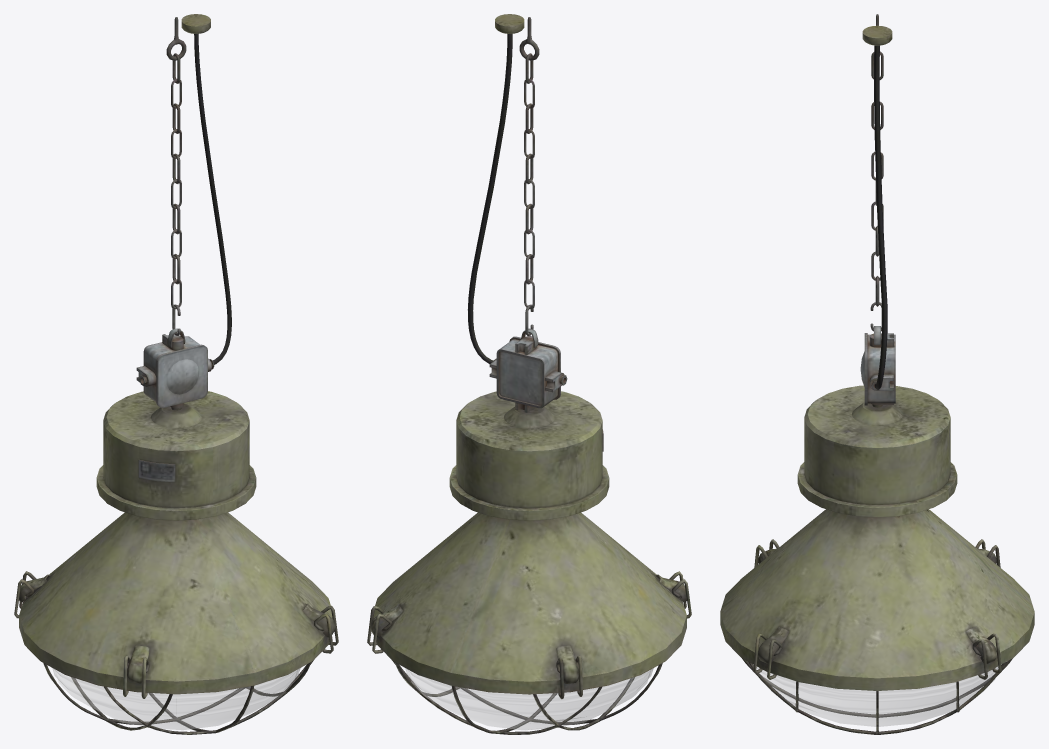
Rendered from hanging_industrial_lamp.glb.
3 views of the same model, side by side, from view 1: azimuth 30°, elevation 25°; view 2: azimuth 150°, elevation 25°; view 3: azimuth 270°, elevation 25° (orthographic).
Bounding box in the file's own units: 0.5496 × 1.36 × 0.5496.
2 materials, 1 textured.
